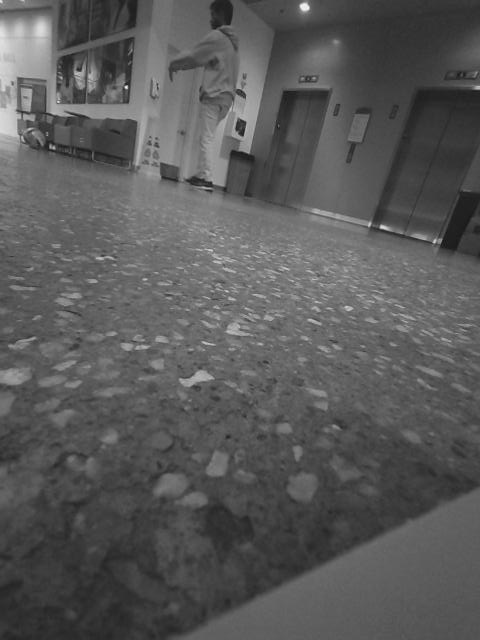ball: (192, 287, 274, 362)
